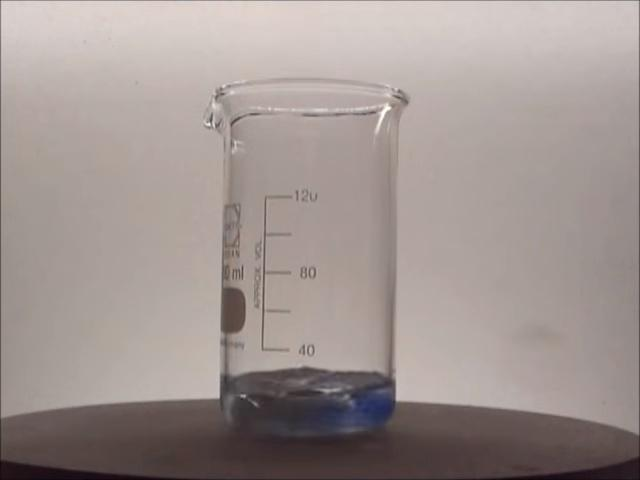Beaker: (198, 79, 406, 440)
